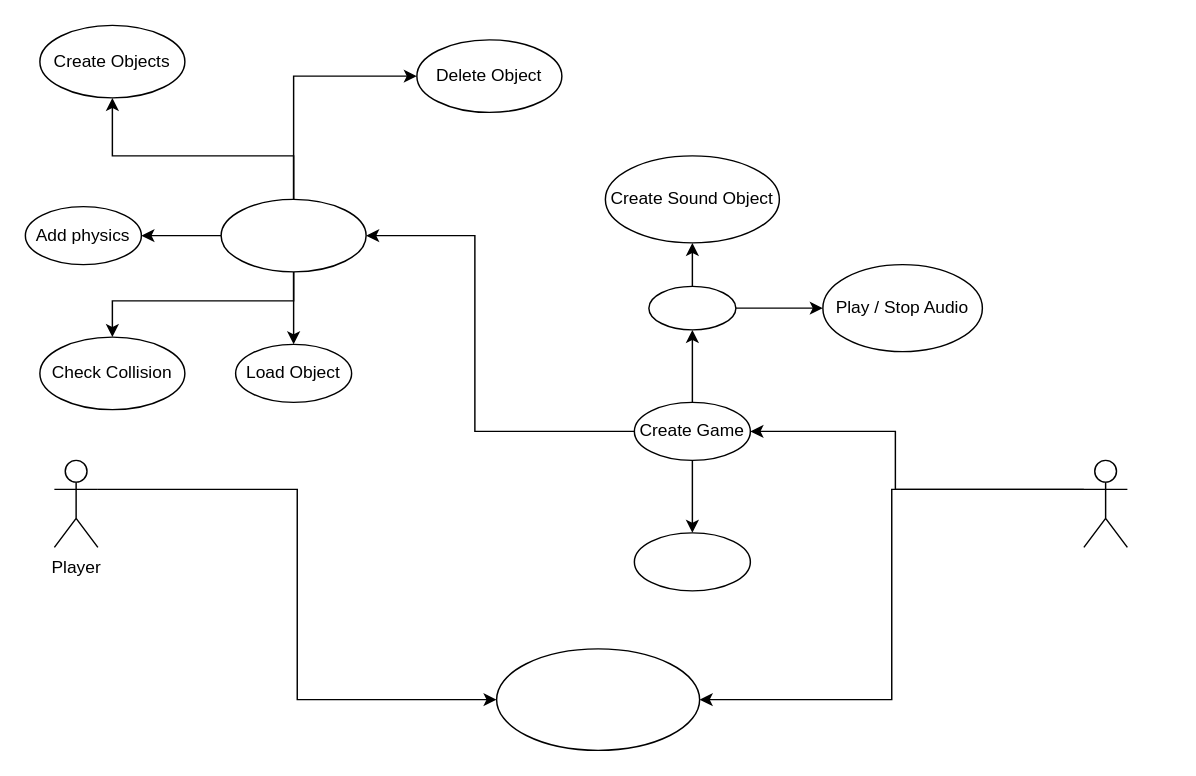
Image size: 1196x776. Some labels were removed from this diagram. The shapes that lost their labels are listed below. From the top down, each one's centre as x and y in pixels, then its label:
At (x=293, y=235): "Game Objects".
At (x=691, y=307): "Audio".
At (x=1104, y=503): "Game Developer".
At (x=691, y=561): "Define input".
At (x=597, y=698): "Play Game".
